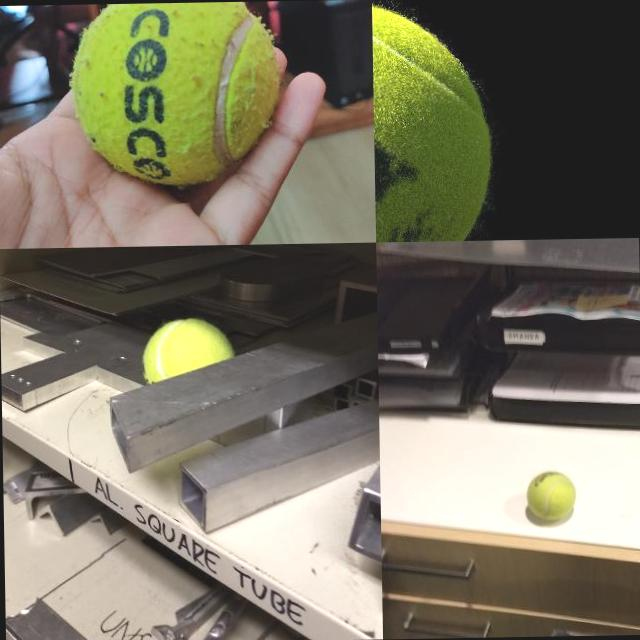Tennis Ball: (70, 0, 278, 186), (371, 0, 491, 241), (140, 314, 233, 356), (524, 470, 576, 520)
